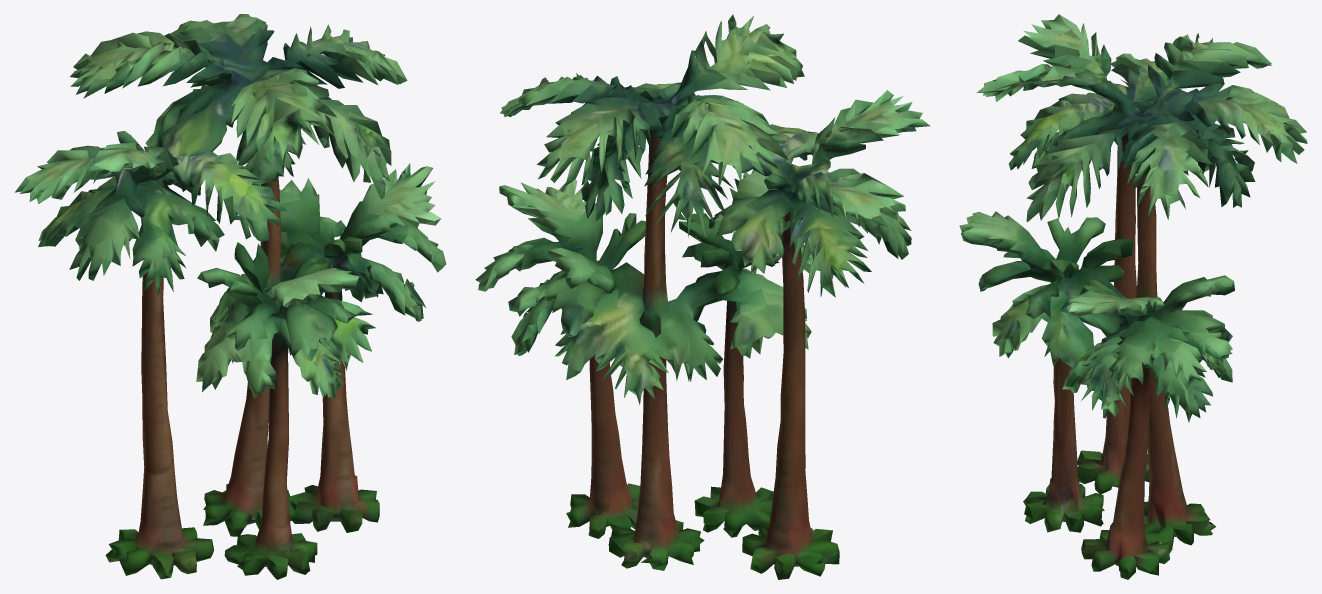
The model's file is f02_acaizeiros.glb.
3 views of the same model, side by side, from view 1: azimuth 30°, elevation 25°; view 2: azimuth 150°, elevation 25°; view 3: azimuth 270°, elevation 25° (orthographic). The views are drawn at different scales.
Visible parts, largest first — view 1: f02_acaizeiros; view 2: f02_acaizeiros; view 3: f02_acaizeiros.
Boxes of the visible parts, bbox=[...] form: f02_acaizeiros: bbox=[15, 14, 446, 579]; f02_acaizeiros: bbox=[475, 14, 930, 579]; f02_acaizeiros: bbox=[959, 14, 1307, 579].
Bounding box in the file's own units: 0.7335 × 0.8548 × 0.581.
Materials: 1 (1 with a texture image).
